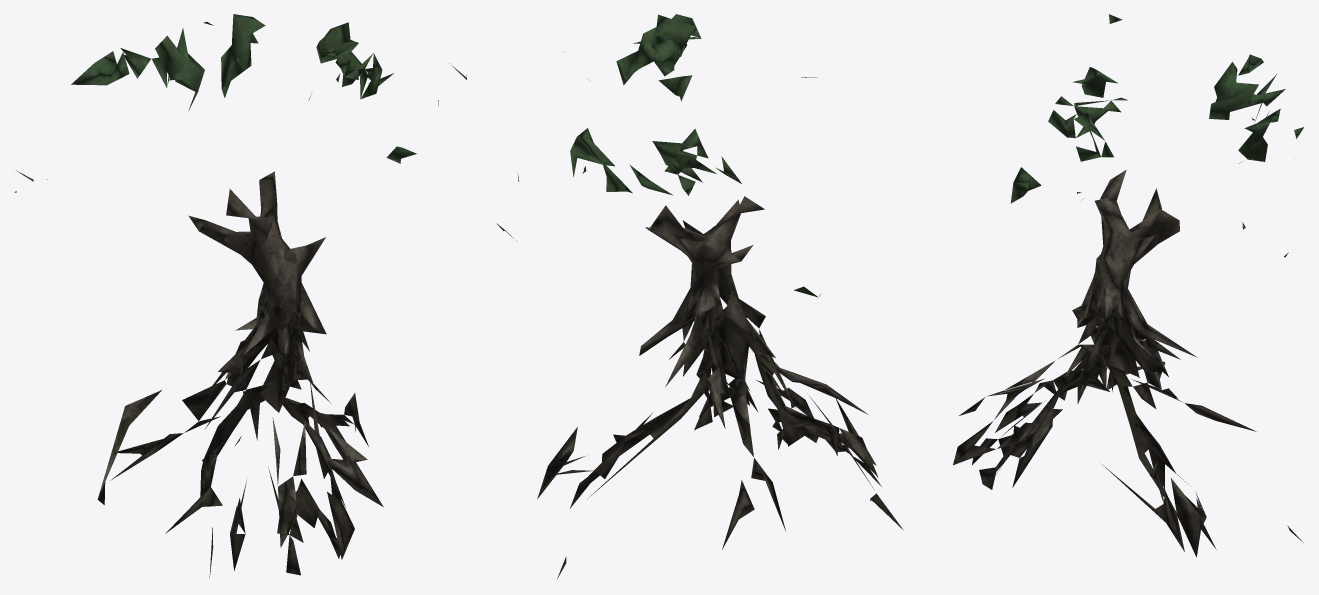
The model's file is swamp-tree-2.glb.
The picture shows the model from 3 angles, left to right: view 1: azimuth 30°, elevation 25°; view 2: azimuth 150°, elevation 25°; view 3: azimuth 270°, elevation 25°; orthographic projection. The views are drawn at different scales.
Parts seen in each view (by area): view 1: geometry_0; view 2: geometry_0; view 3: geometry_0.
Part boxes in pixels (x1,y1,x2,y2): geometry_0: (14, 14, 466, 577); geometry_0: (496, 14, 903, 578); geometry_0: (953, 14, 1303, 557).
Size of the model in its own units: 0.6112 by 0.8059 by 0.567.
1 material, 1 textured.
